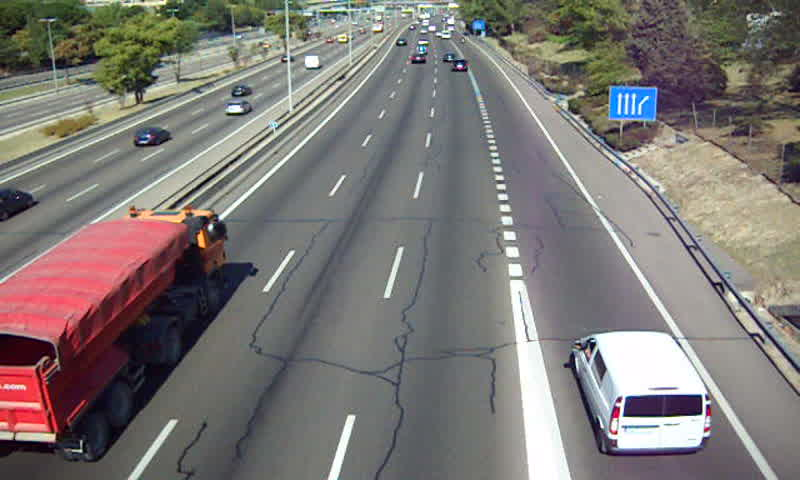car: (450, 60, 469, 74)
truck: (1, 210, 229, 462)
van: (570, 332, 714, 458)
